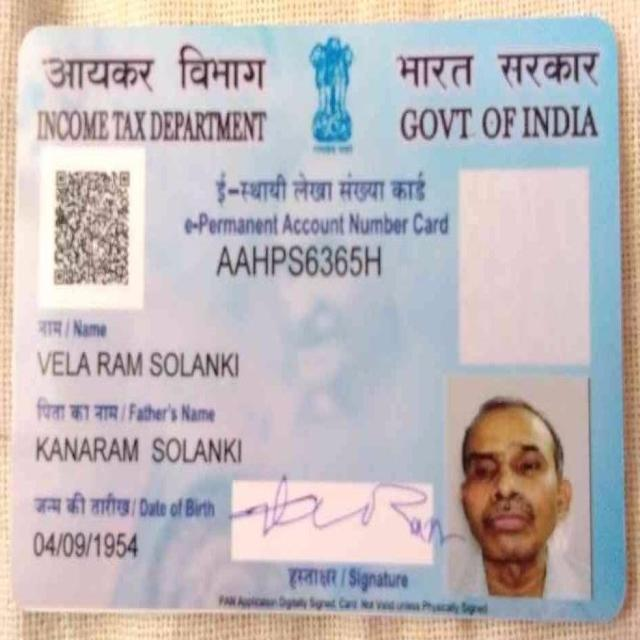pan_card: (13, 19, 621, 613)
